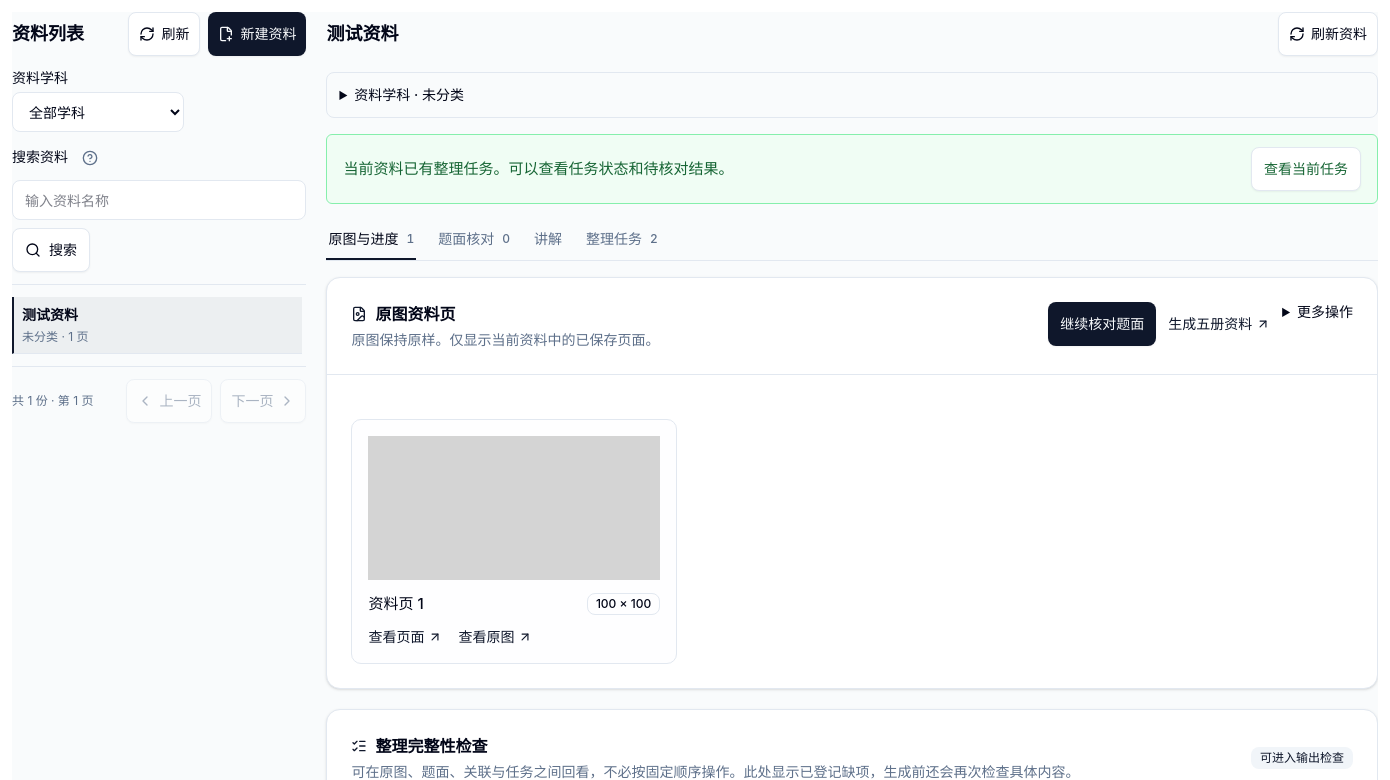
it: MaterialWorkspace navigation › autosaves a material title once and settles after the saved state rerenders
The image size is (1390, 780).
Step 1. Click the button "新建资料" → (257,34), box [208,12,306,56]
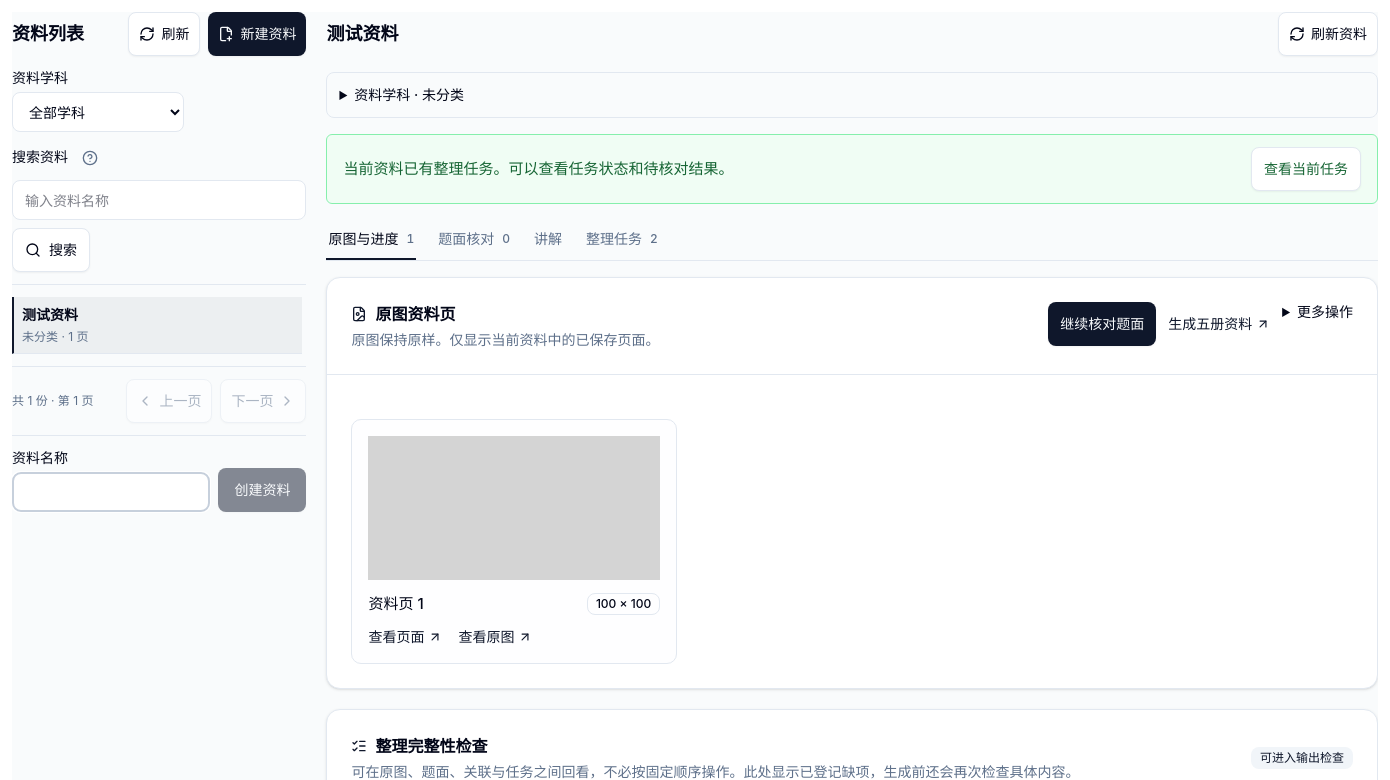
Step 2. Type "数学周练" into the field labelled "资料名称" → (111,492), box [12,472,210,512]
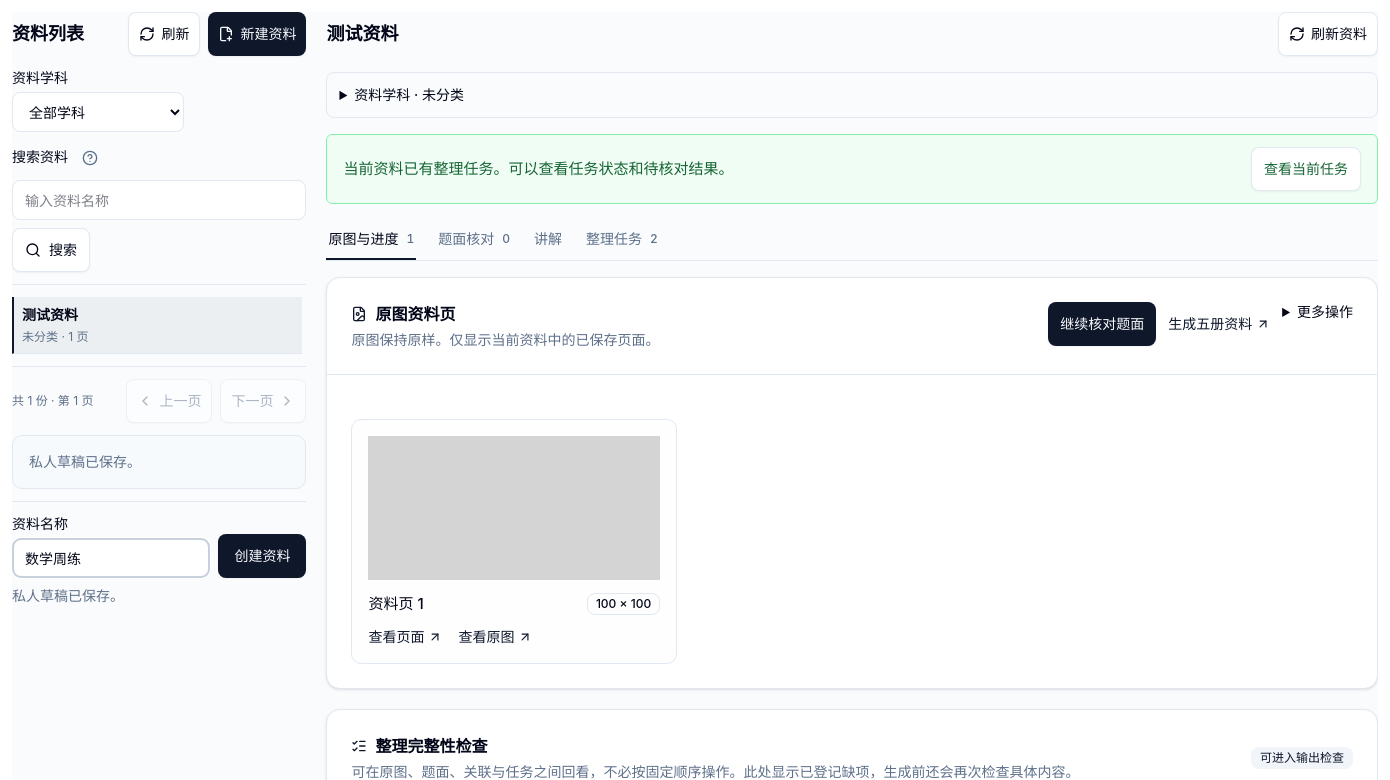
Now the 1st text "私人草稿已保存。" is shown, box [29,453,141,470]
